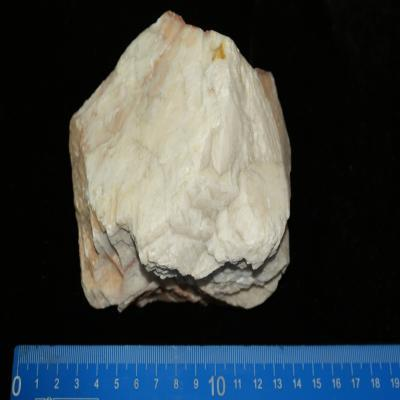mineralogy: (67, 12, 292, 314)
